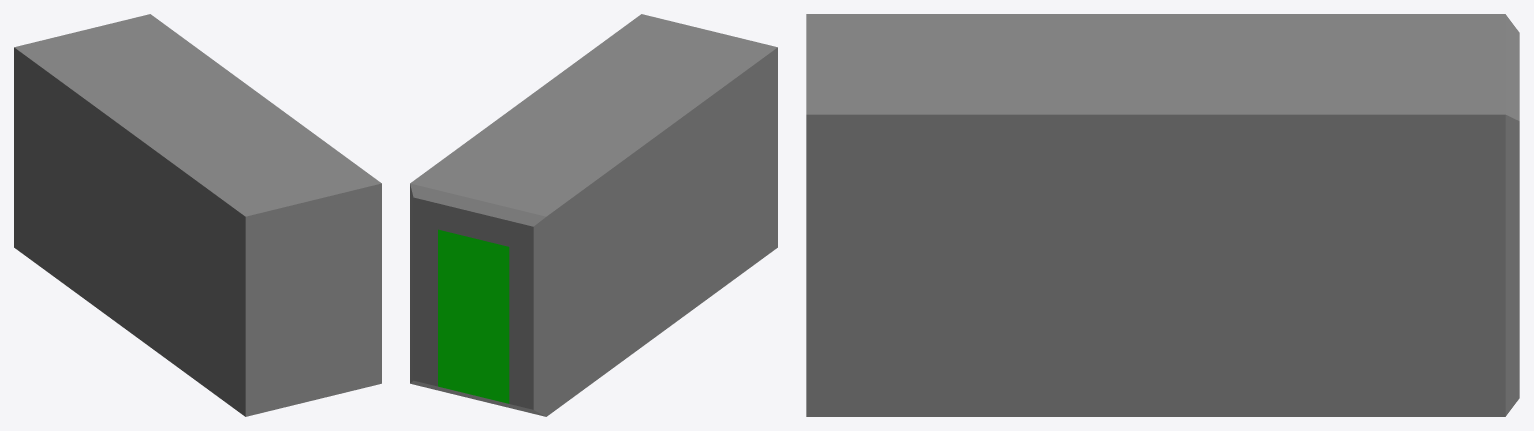
The model's file is TutorialLevel_ClassifiedRoom.fbx.
The picture shows the model from 3 angles, left to right: view 1: azimuth 30°, elevation 25°; view 2: azimuth 150°, elevation 25°; view 3: azimuth 270°, elevation 25°; orthographic projection. The views are drawn at different scales.
Visible parts, largest first — view 1: ClassifiedRoom; view 2: ClassifiedRoom; view 3: ClassifiedRoom.
Part boxes in pixels (left/top/right/bottom): ClassifiedRoom: left=14, top=14, right=381, bottom=416; ClassifiedRoom: left=410, top=14, right=777, bottom=416; ClassifiedRoom: left=806, top=14, right=1519, bottom=416.
Size of the model in its own units: 200 by 281 by 600.
